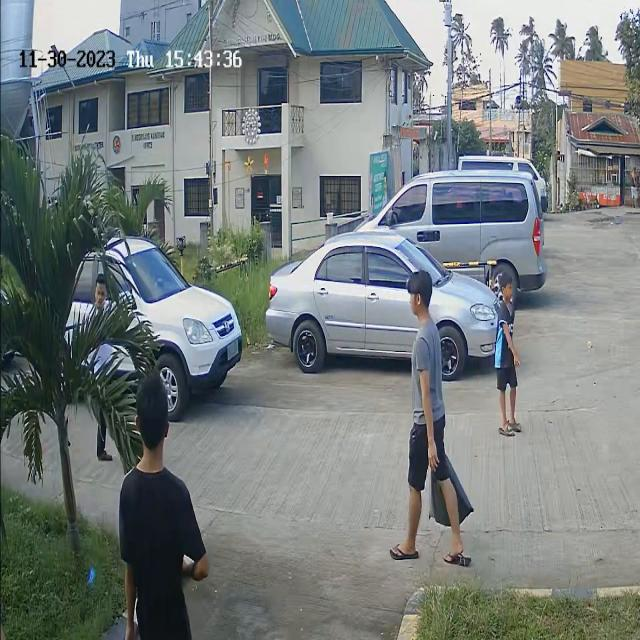person: (118, 381, 186, 556), (403, 272, 447, 448), (492, 274, 519, 359), (94, 272, 108, 322)
